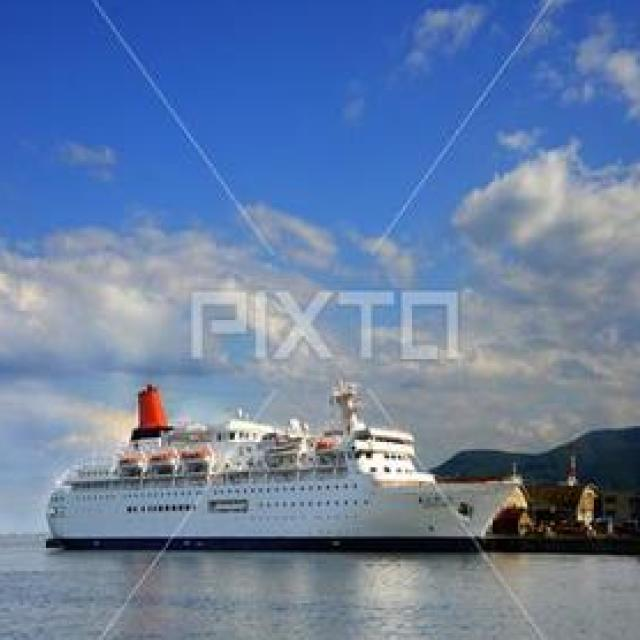cargoship: (36, 382, 498, 548)
